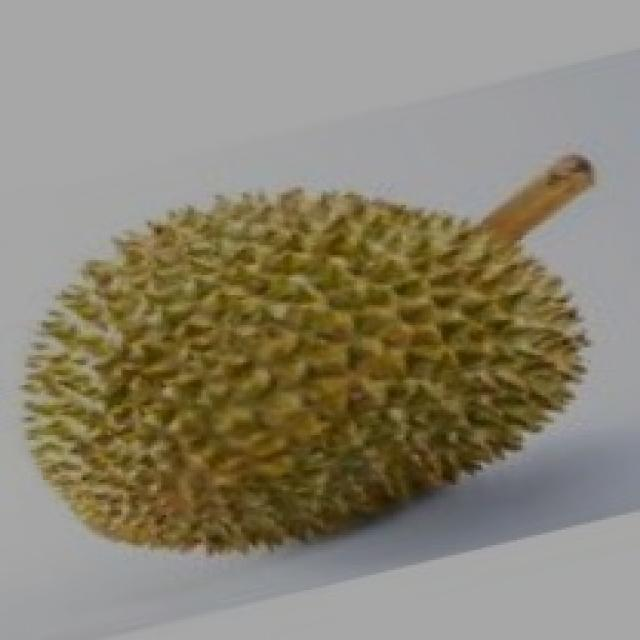fruit: (0, 169, 372, 612), (274, 178, 637, 582)
